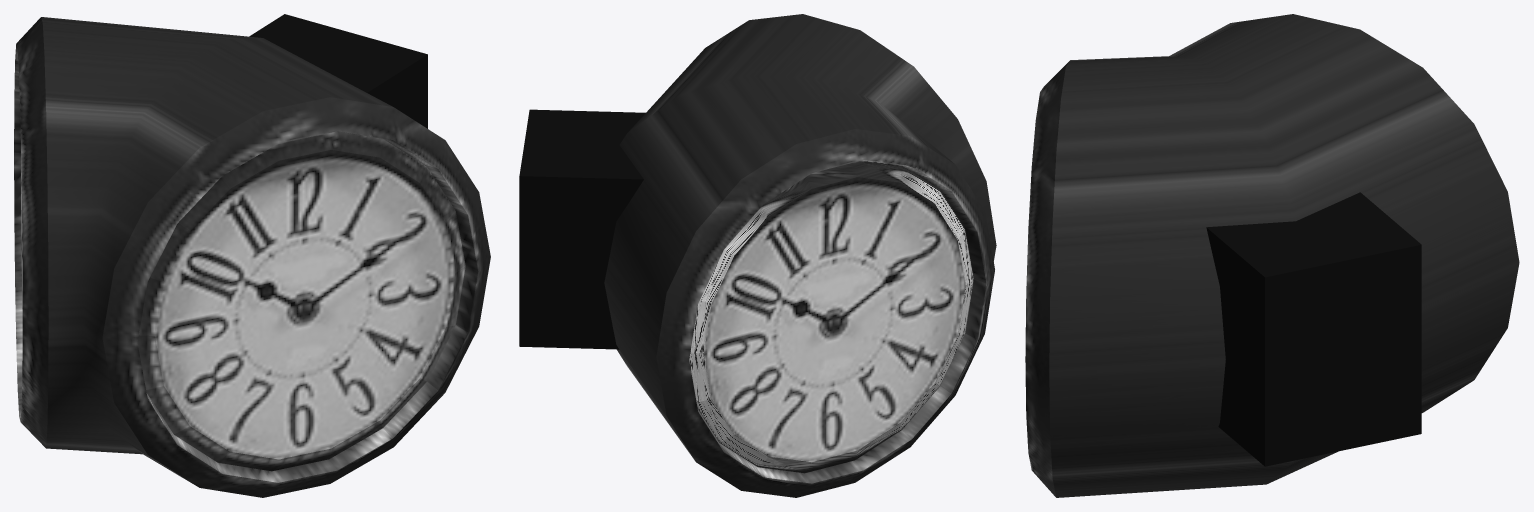
Rendered from Street_watch_45.FBX.
3 views of the same model, side by side, from view 1: azimuth 30°, elevation 25°; view 2: azimuth 150°, elevation 25°; view 3: azimuth 270°, elevation 25° (orthographic). The views are drawn at different scales.
Parts seen in each view (by area): view 1: Street_watch_B, Box001; view 2: Street_watch_B, Box001; view 3: Street_watch_B, Box001.
Part boxes in pixels (x1,y1,x2,y2): Street_watch_B: [14, 17, 490, 497]; Box001: [249, 14, 427, 128]; Street_watch_B: [604, 14, 996, 497]; Box001: [519, 109, 645, 349]; Street_watch_B: [1025, 14, 1519, 497]; Box001: [1206, 192, 1421, 466].
Size of the model in its own units: 96.4 by 78.78 by 89.89.
2 materials, 1 textured.
